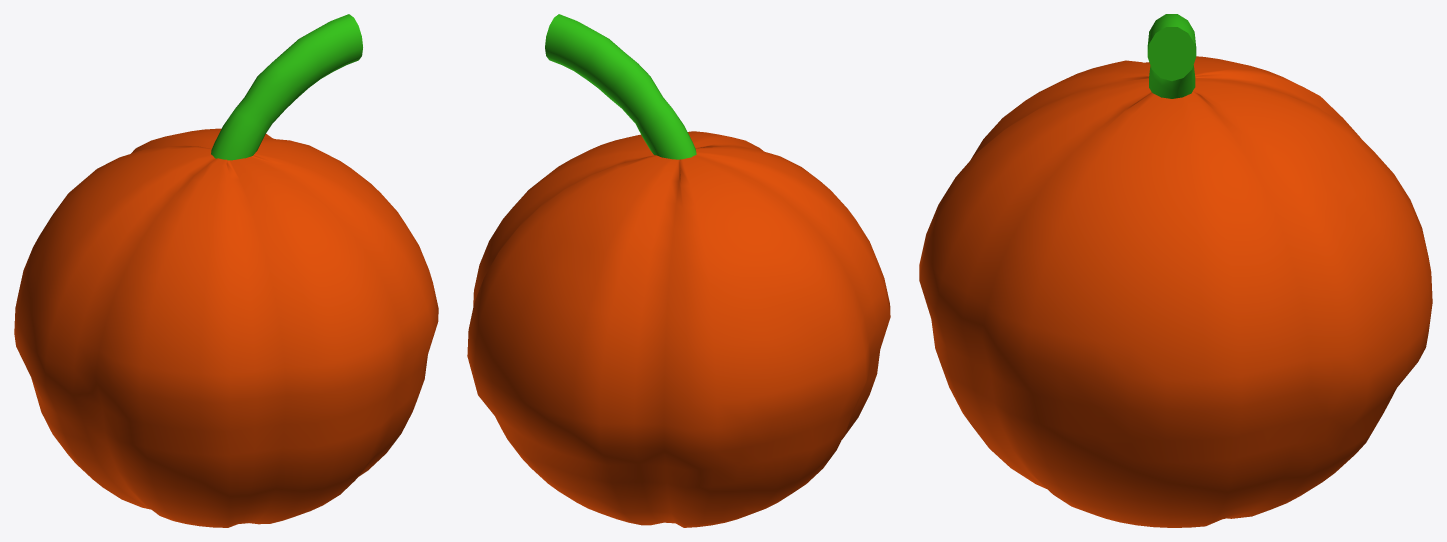
The model's file is dynia export to Unity.fbx.
3 views of the same model, side by side, from view 1: azimuth 30°, elevation 25°; view 2: azimuth 150°, elevation 25°; view 3: azimuth 270°, elevation 25° (orthographic). The views are drawn at different scales.
Parts seen in each view (by area): view 1: Sphere001, Cylinder001; view 2: Sphere001, Cylinder001; view 3: Sphere001, Cylinder001.
Part boxes in pixels (x1,y1,x2,y2): Sphere001: (14, 128, 438, 527); Cylinder001: (211, 14, 362, 160); Sphere001: (467, 131, 890, 527); Cylinder001: (545, 14, 696, 159); Sphere001: (919, 56, 1432, 527); Cylinder001: (1147, 14, 1196, 98).
Size of the model in its own units: 22.35 by 26.75 by 22.65.
